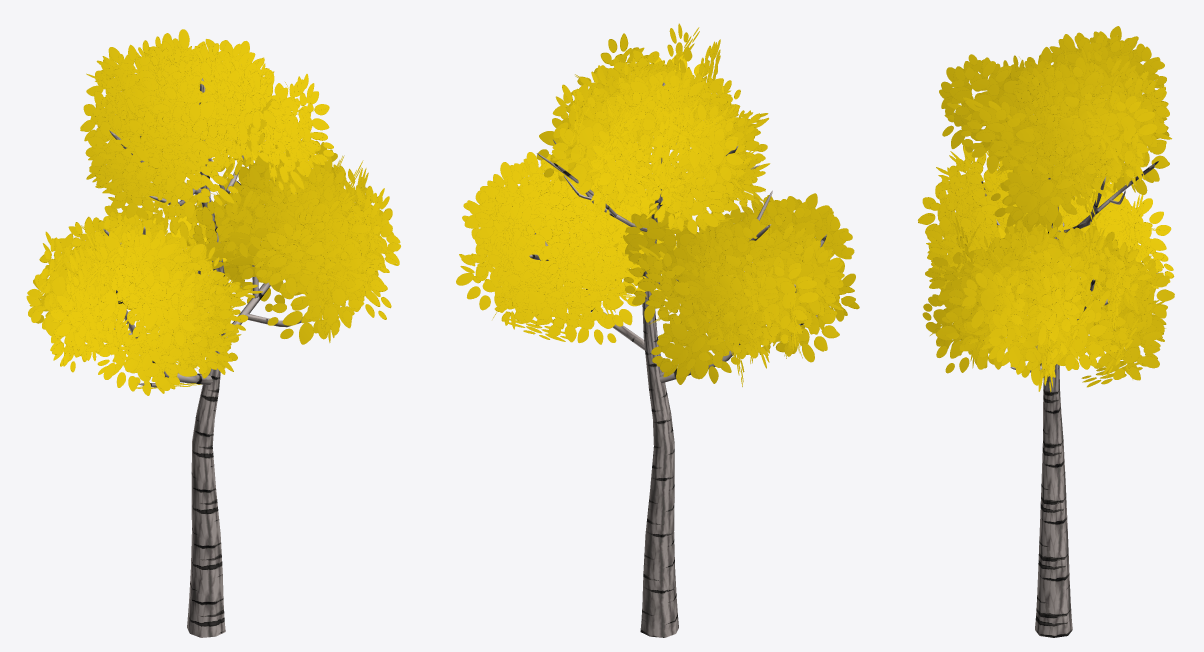
File: BirchTree_4.glb
3 renders of one model, left to right at view 1: azimuth 30°, elevation 25°; view 2: azimuth 150°, elevation 25°; view 3: azimuth 270°, elevation 25°, orthographic.
Visible parts, largest first — view 1: BirchTree_4; view 2: BirchTree_4; view 3: BirchTree_4.
Boxes of the visible parts, left/top/right/bottom form: BirchTree_4: left=26, top=29, right=400, bottom=637; BirchTree_4: left=456, top=23, right=859, bottom=637; BirchTree_4: left=918, top=26, right=1174, bottom=637.
Size of the model in its own units: 2.78 by 4.21 by 1.84.
2 materials, 2 textured.
